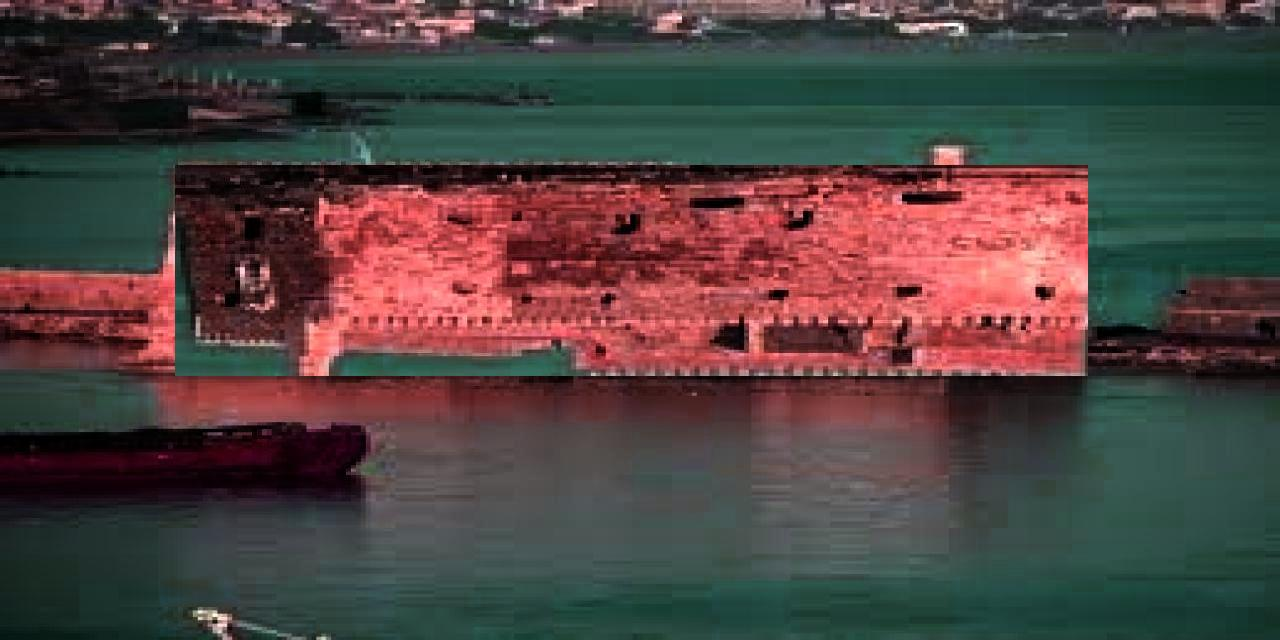Kules: (176, 166, 1089, 377)
